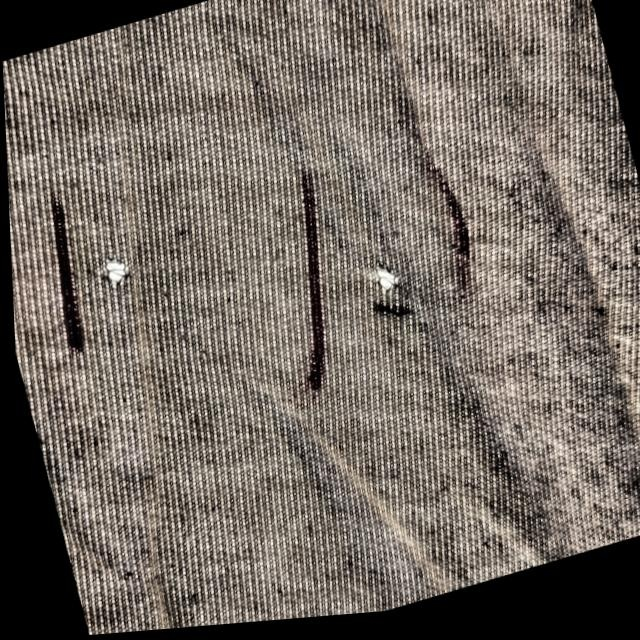Hole: (94, 250, 141, 297), (365, 256, 409, 305)
Stitch: (364, 283, 423, 342)
